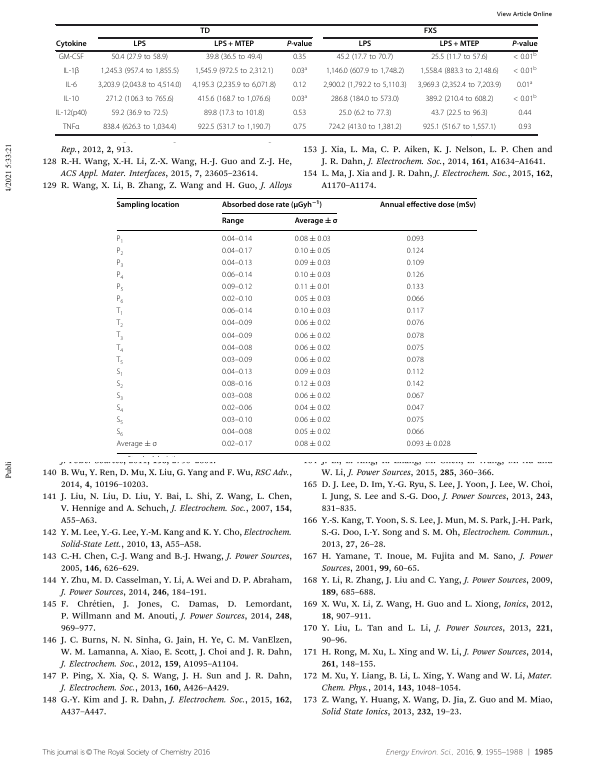borderless: (115, 196, 477, 453), (54, 23, 537, 134)
cell: (221, 199, 323, 210), (379, 200, 477, 210), (191, 81, 277, 91), (322, 81, 408, 91), (97, 81, 182, 91), (417, 81, 502, 91), (100, 67, 180, 77), (194, 67, 274, 77), (325, 67, 405, 77), (419, 67, 499, 77), (197, 95, 272, 105), (102, 123, 177, 133), (197, 123, 272, 133), (327, 123, 402, 133), (422, 123, 497, 133), (105, 95, 175, 105), (330, 95, 400, 105), (424, 95, 494, 105), (116, 200, 180, 210), (203, 109, 265, 119), (110, 53, 169, 63), (430, 53, 489, 63), (110, 109, 169, 119), (430, 109, 489, 119), (205, 53, 263, 63), (336, 53, 394, 63), (338, 109, 392, 119), (294, 216, 338, 226), (213, 40, 255, 50), (406, 440, 452, 449), (439, 40, 480, 50), (115, 440, 158, 449), (294, 234, 332, 244), (294, 246, 332, 256), (294, 355, 332, 365), (294, 367, 332, 377), (294, 259, 332, 268), (294, 271, 332, 280), (294, 283, 332, 292), (294, 295, 332, 304), (294, 307, 332, 316), (294, 319, 332, 328), (294, 331, 332, 340), (294, 343, 332, 352), (294, 380, 332, 389), (294, 392, 332, 401), (294, 404, 332, 413), (294, 416, 332, 425), (294, 428, 332, 437), (294, 440, 332, 449), (55, 109, 88, 119), (55, 40, 87, 50), (221, 234, 253, 244), (221, 246, 253, 256), (221, 355, 253, 365), (221, 367, 253, 377), (221, 259, 253, 268), (221, 271, 253, 280), (221, 283, 253, 292), (221, 295, 253, 304), (221, 307, 253, 316), (221, 319, 253, 328), (221, 331, 253, 340), (221, 343, 253, 352), (221, 380, 253, 389), (221, 392, 253, 401), (221, 404, 253, 413), (221, 416, 253, 425), (221, 428, 253, 437), (221, 440, 253, 449), (512, 52, 537, 63), (512, 66, 537, 77), (512, 94, 537, 105), (286, 40, 313, 50), (511, 40, 538, 50), (58, 53, 85, 63), (221, 216, 245, 226), (406, 234, 425, 244), (406, 246, 425, 256), (406, 355, 425, 365), (406, 367, 425, 377), (291, 66, 308, 77), (516, 80, 533, 91), (291, 94, 308, 105), (62, 67, 80, 77), (62, 123, 80, 133), (406, 259, 425, 268), (406, 271, 425, 280), (406, 283, 425, 292), (406, 295, 425, 304), (406, 307, 425, 316), (406, 319, 425, 328), (406, 331, 425, 340), (406, 343, 425, 352), (406, 380, 425, 389), (406, 392, 425, 401), (406, 404, 425, 413), (406, 416, 425, 425), (406, 428, 425, 437), (63, 95, 80, 105), (132, 40, 147, 50), (292, 53, 307, 63), (292, 81, 307, 91), (292, 109, 307, 119), (517, 109, 532, 119), (292, 123, 307, 133), (517, 123, 532, 133), (358, 40, 372, 50), (64, 81, 78, 91), (423, 27, 438, 36), (199, 27, 211, 36), (115, 307, 124, 318), (115, 319, 124, 330), (115, 331, 124, 342), (115, 343, 124, 354), (115, 355, 124, 366), (115, 367, 124, 378), (115, 416, 124, 427), (115, 428, 124, 439), (115, 380, 124, 390), (115, 392, 124, 402), (115, 404, 124, 414), (116, 234, 124, 245), (116, 246, 124, 257), (116, 295, 124, 306), (116, 259, 124, 269), (116, 271, 124, 281), (116, 283, 124, 293)
